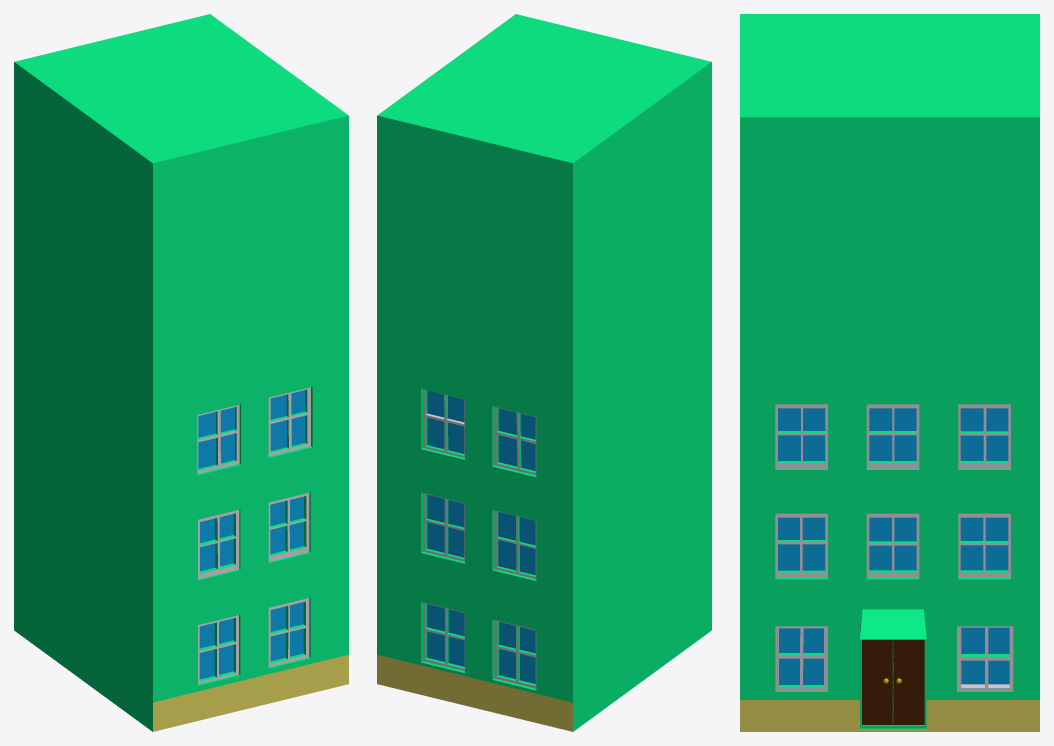
The model's file is High Rise 5 Aqua.fbx.
The picture shows the model from 3 angles, left to right: view 1: azimuth 30°, elevation 25°; view 2: azimuth 150°, elevation 25°; view 3: azimuth 270°, elevation 25°; orthographic projection. The views are drawn at different scales.
Visible parts, largest first — view 1: Cube; view 2: Cube; view 3: Cube.
Part boxes in pixels (x1,y1,x2,y2): Cube: (14, 14, 348, 731); Cube: (377, 14, 711, 731); Cube: (740, 14, 1039, 731).
Bounding box in the file's own units: 314 × 791 × 350.
